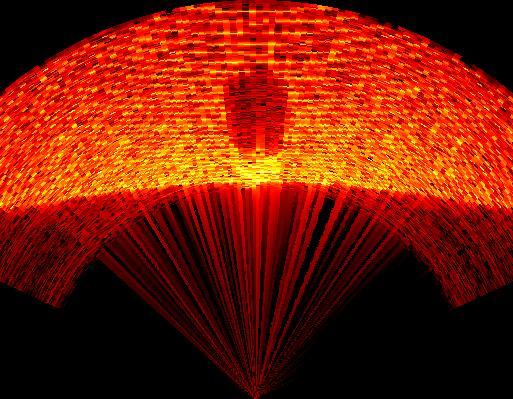box_crate: (221, 62, 295, 178)
